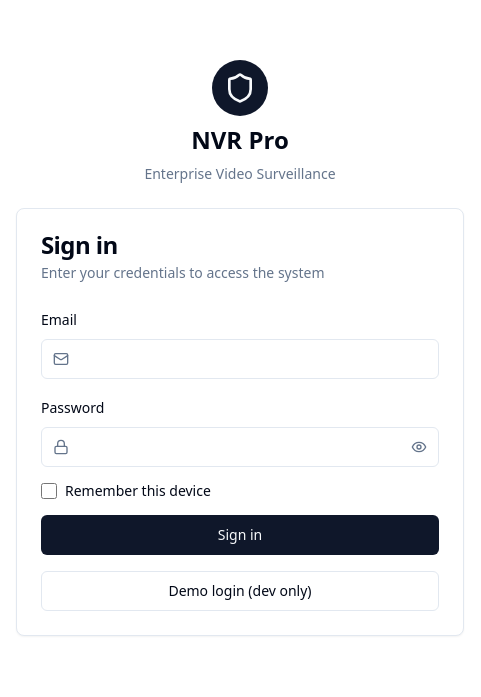
Test: Login › shows MFA field after server signals requires_mfa
Type "admin@example.com" into the field labelled "Email" at (240, 359), box [41,339,439,379]
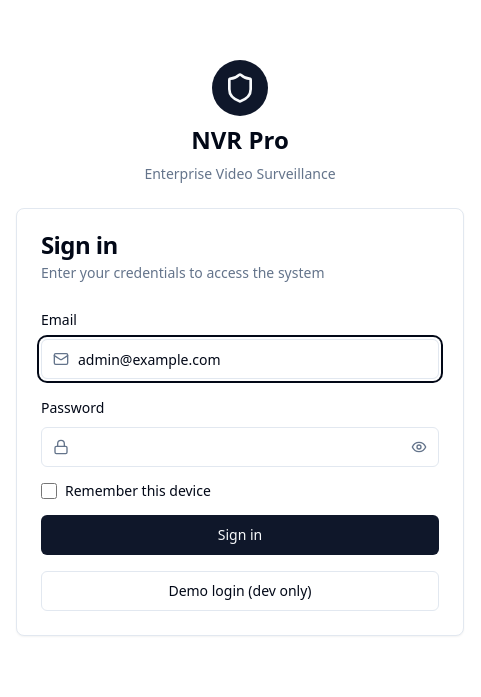
Type "password" into the password field labelled "Password" at (240, 447), box [41,427,439,467]
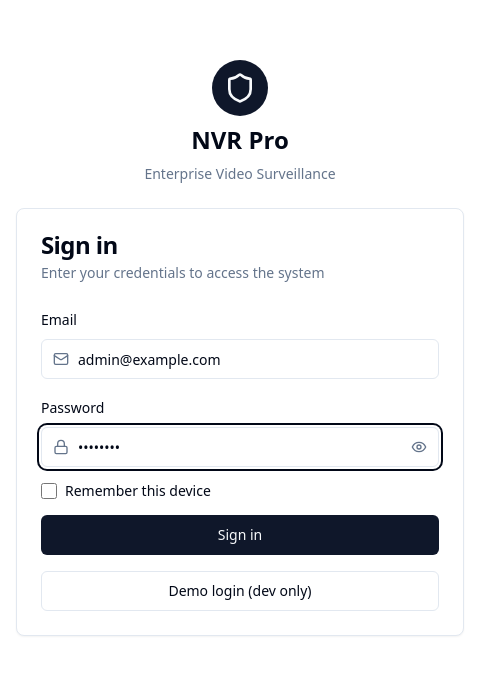
Click the button "Sign in" at (240, 535), box [41,515,439,555]
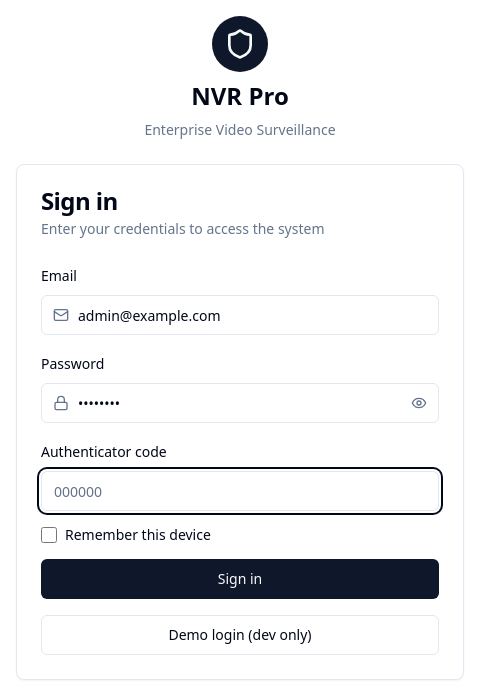
Check: the field labelled "Authenticator code" is shown, box [41,471,439,511]
